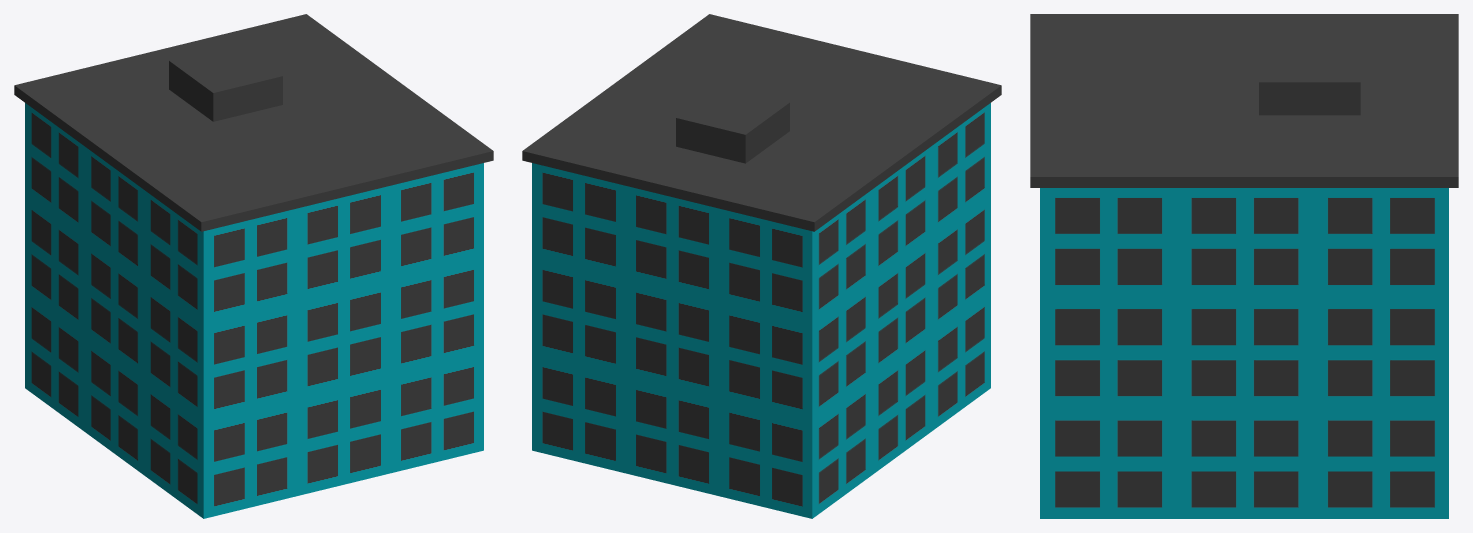
Rendered from Building 01.FBX.
3 renders of one model, left to right at view 1: azimuth 30°, elevation 25°; view 2: azimuth 150°, elevation 25°; view 3: azimuth 270°, elevation 25°, orthographic. The views are drawn at different scales.
Parts seen in each view (by area): view 1: Box001; view 2: Box001; view 3: Box001.
Boxes of the visible parts, left/top/right/bottom form: Box001: left=14, top=14, right=493, bottom=518; Box001: left=522, top=14, right=1001, bottom=518; Box001: left=1030, top=14, right=1458, bottom=518.
Size of the model in its own units: 46.38 by 50.09 by 51.46.
